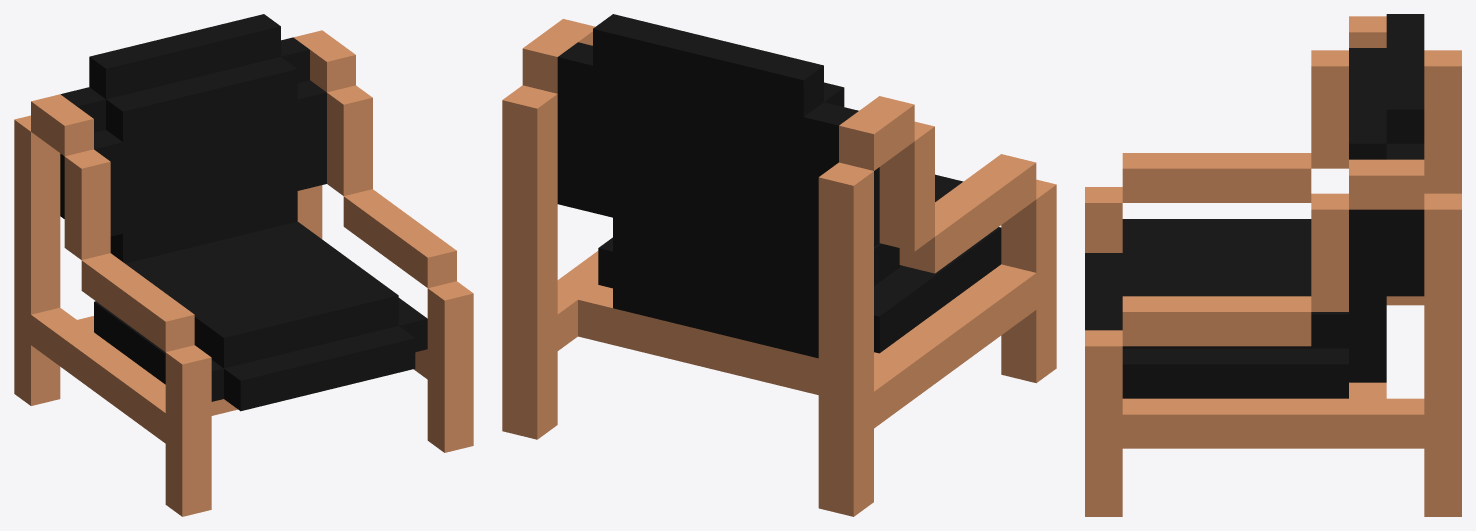
The model's file is CasualOfficeChair.obj.
3 renders of one model, left to right at view 1: azimuth 30°, elevation 25°; view 2: azimuth 150°, elevation 25°; view 3: azimuth 270°, elevation 25°, orthographic. The views are drawn at different scales.
Size of the model in its own units: 1 by 1.1 by 1.
1 material, 1 textured.
